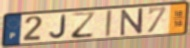2: (22, 15, 45, 43)
7: (147, 6, 168, 35)
I: (105, 9, 113, 38)
J: (49, 14, 68, 40)
N: (120, 7, 145, 37)
Z: (70, 10, 97, 40)
